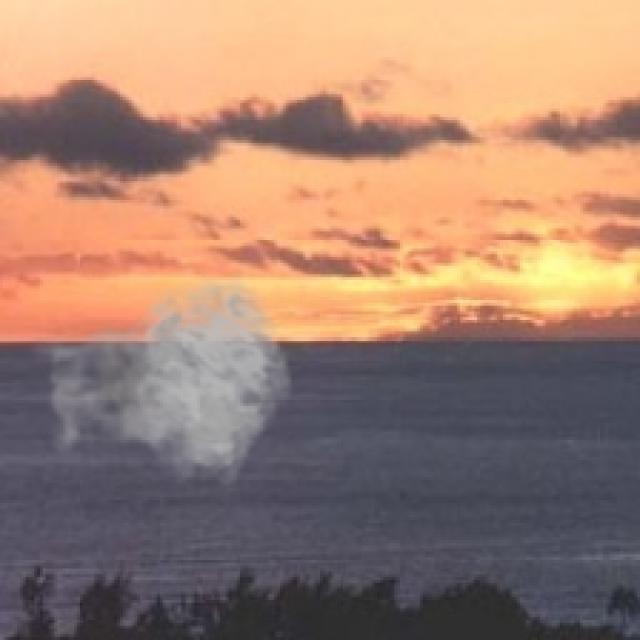Smoke: (28, 272, 294, 492)
